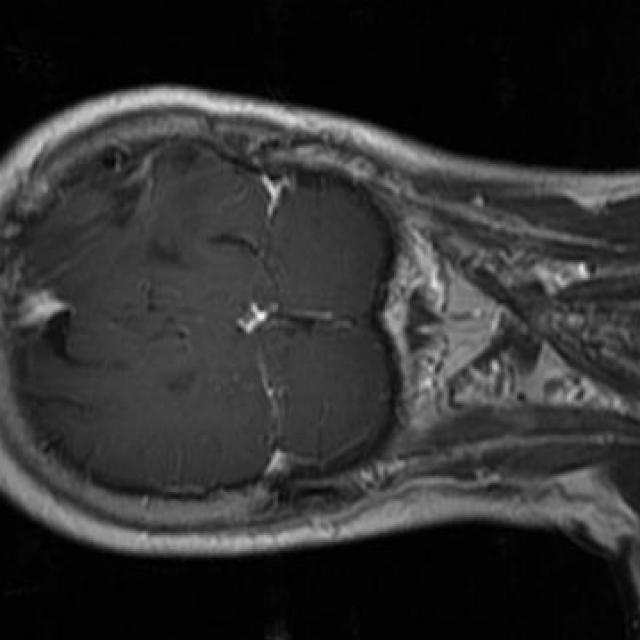glioma: (32, 143, 201, 275)
